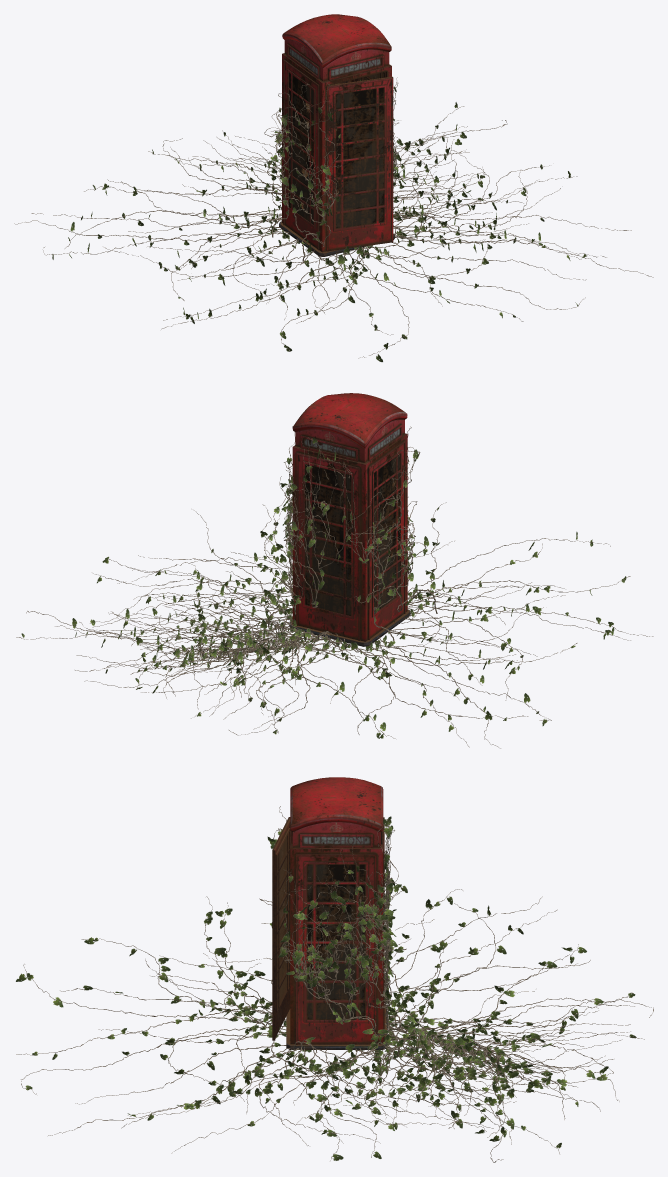
The model's file is post_apocalyptic_phone_booth.glb.
The picture shows the model from 3 angles, top to bottom: view 1: azimuth 30°, elevation 25°; view 2: azimuth 150°, elevation 25°; view 3: azimuth 270°, elevation 25°; orthographic projection. The views are drawn at different scales.
Visible parts, largest first — view 1: Phone, Ivy; view 2: Ivy, Phone; view 3: Ivy, Phone.
Part boxes in pixels (box(x1,y1,x2,y2)): Phone: box(279, 14, 394, 256); Ivy: box(14, 77, 653, 362); Ivy: box(16, 426, 653, 748); Phone: box(289, 393, 410, 646); Ivy: box(16, 806, 653, 1162); Phone: box(272, 777, 387, 1049).
Size of the model in its own units: 6.1 by 2.58 by 6.09.
4 materials, 4 textured.
